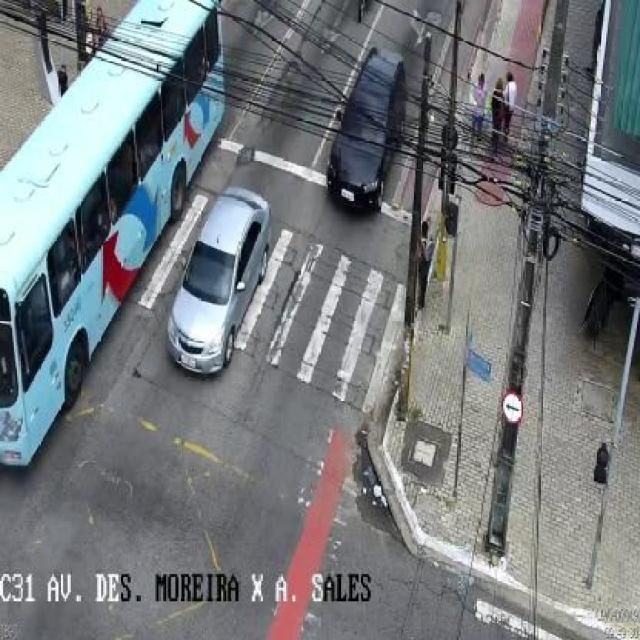Bus: (0, 0, 227, 465)
Car: (167, 185, 270, 375), (329, 46, 406, 216)
